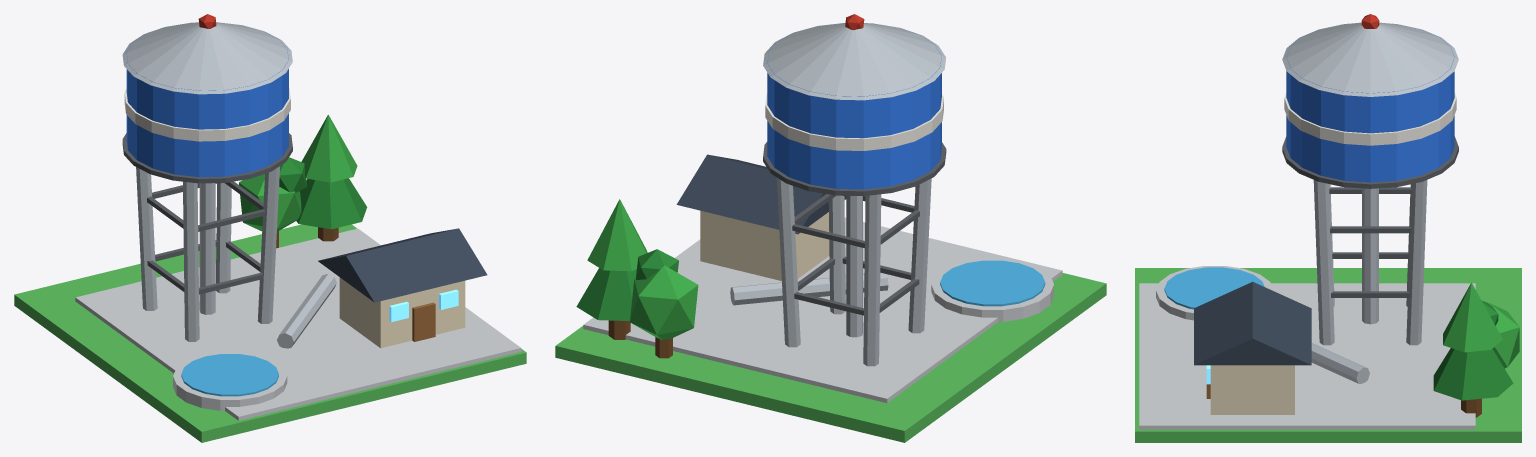
The model's file is sc-water-DzfcYQOh.glb.
3 views of the same model, side by side, from view 1: azimuth 30°, elevation 25°; view 2: azimuth 150°, elevation 25°; view 3: azimuth 270°, elevation 25° (orthographic). The views are drawn at different scales.
Parts seen in each view (by area): view 1: sc-water; view 2: sc-water; view 3: sc-water.
Part boxes in pixels (x1=…): sc-water: x1=14, y1=14, x2=526, y2=442; sc-water: x1=555, y1=14, x2=1106, y2=442; sc-water: x1=1135, y1=14, x2=1521, y2=442.
Bounding box in the file's own units: 0.92 × 0.855 × 0.92.
